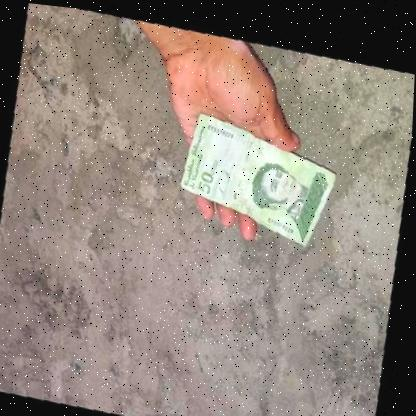fifty-front-vef: (175, 103, 343, 244)
